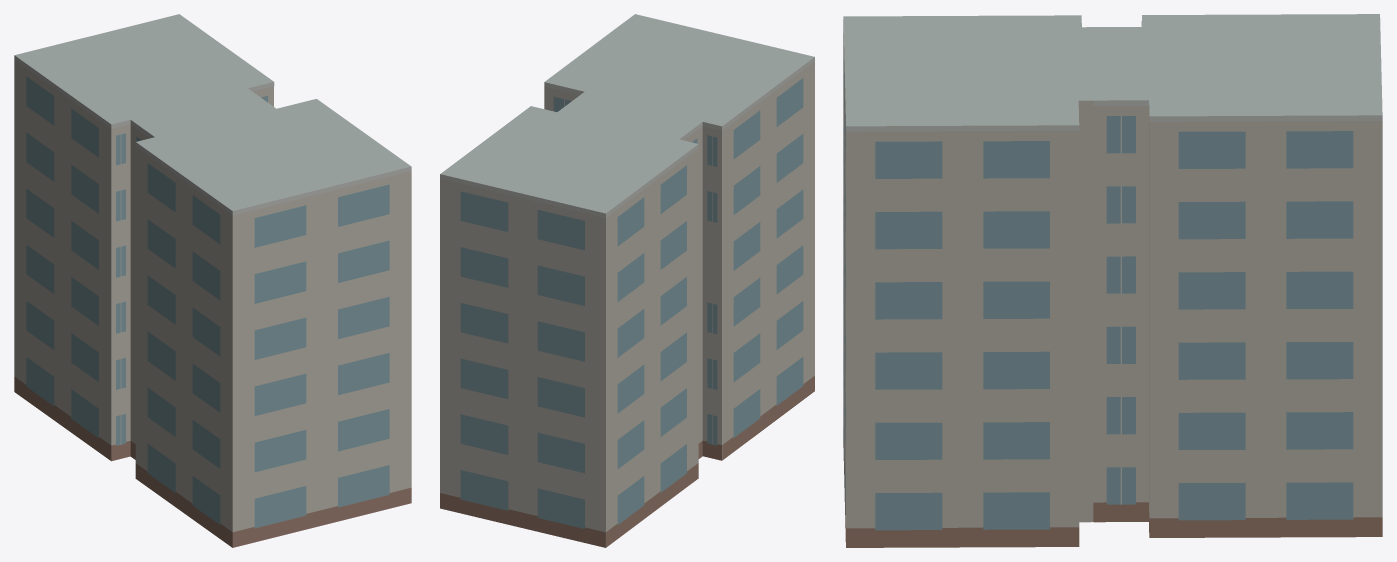
Rendered from survey-upis-32669747.glb.
The picture shows the model from 3 angles, left to right: view 1: azimuth 30°, elevation 25°; view 2: azimuth 150°, elevation 25°; view 3: azimuth 270°, elevation 25°; orthographic projection. The views are drawn at different scales.
Visible parts, largest first — view 1: survey-upis-32669747.tmp; view 2: survey-upis-32669747.tmp; view 3: survey-upis-32669747.tmp.
Boxes of the visible parts, x1,y1,x2,y2 form: survey-upis-32669747.tmp: (14,14,411,547); survey-upis-32669747.tmp: (440,14,814,547); survey-upis-32669747.tmp: (843,14,1382,547).
Size of the model in its own units: 10.52 by 18.4 by 21.34.
